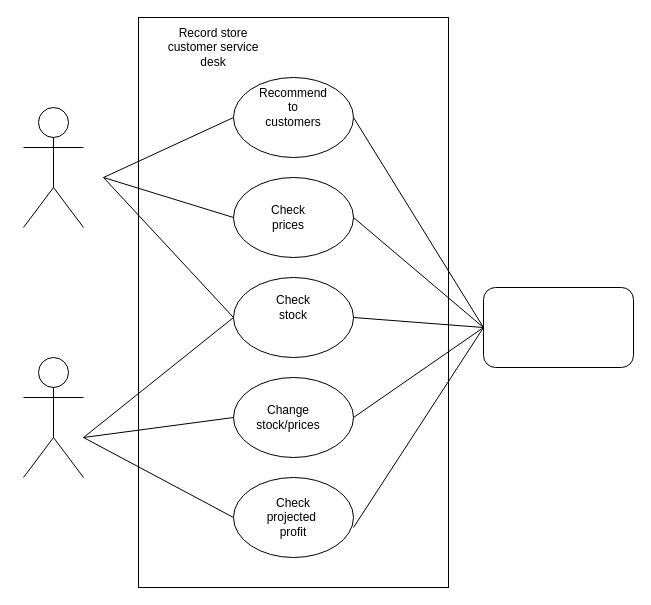
Some shapes in this 651 by 605 pixel diagram are drawn without their labels. Here are the shapes that lost their labels. From the top down, the centre of each, then its label:
At point (53, 167): "Staff member".
At point (558, 327): "Record Store".
At point (53, 417): "Manager".
